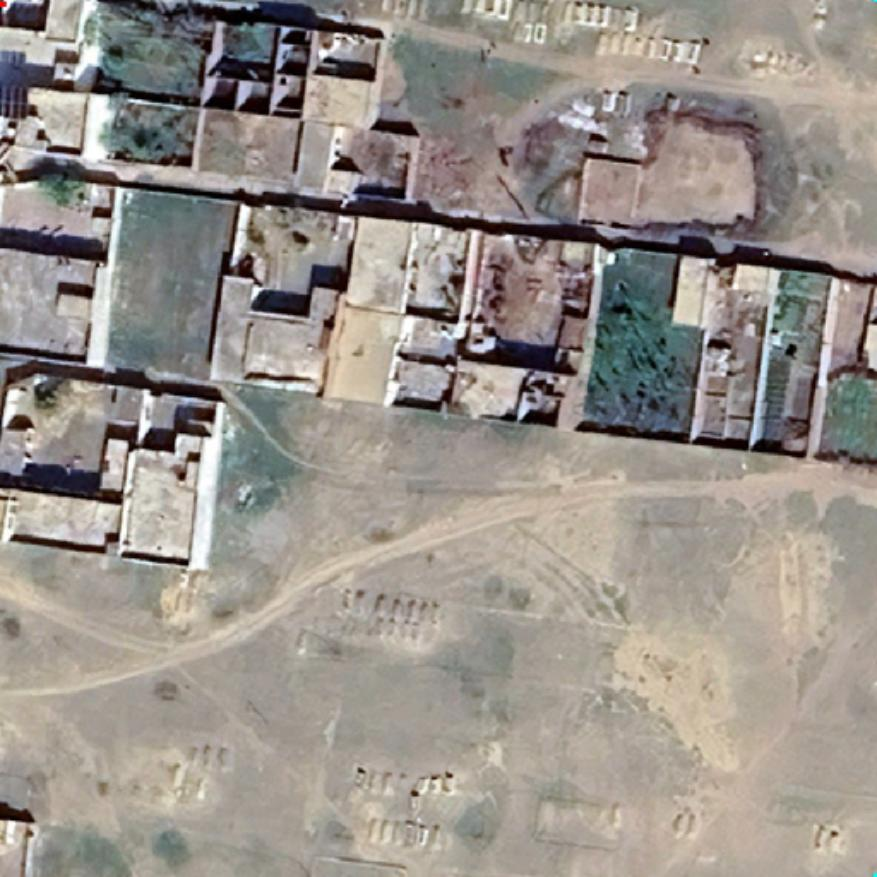Solarpanel: (0, 80, 36, 122)
